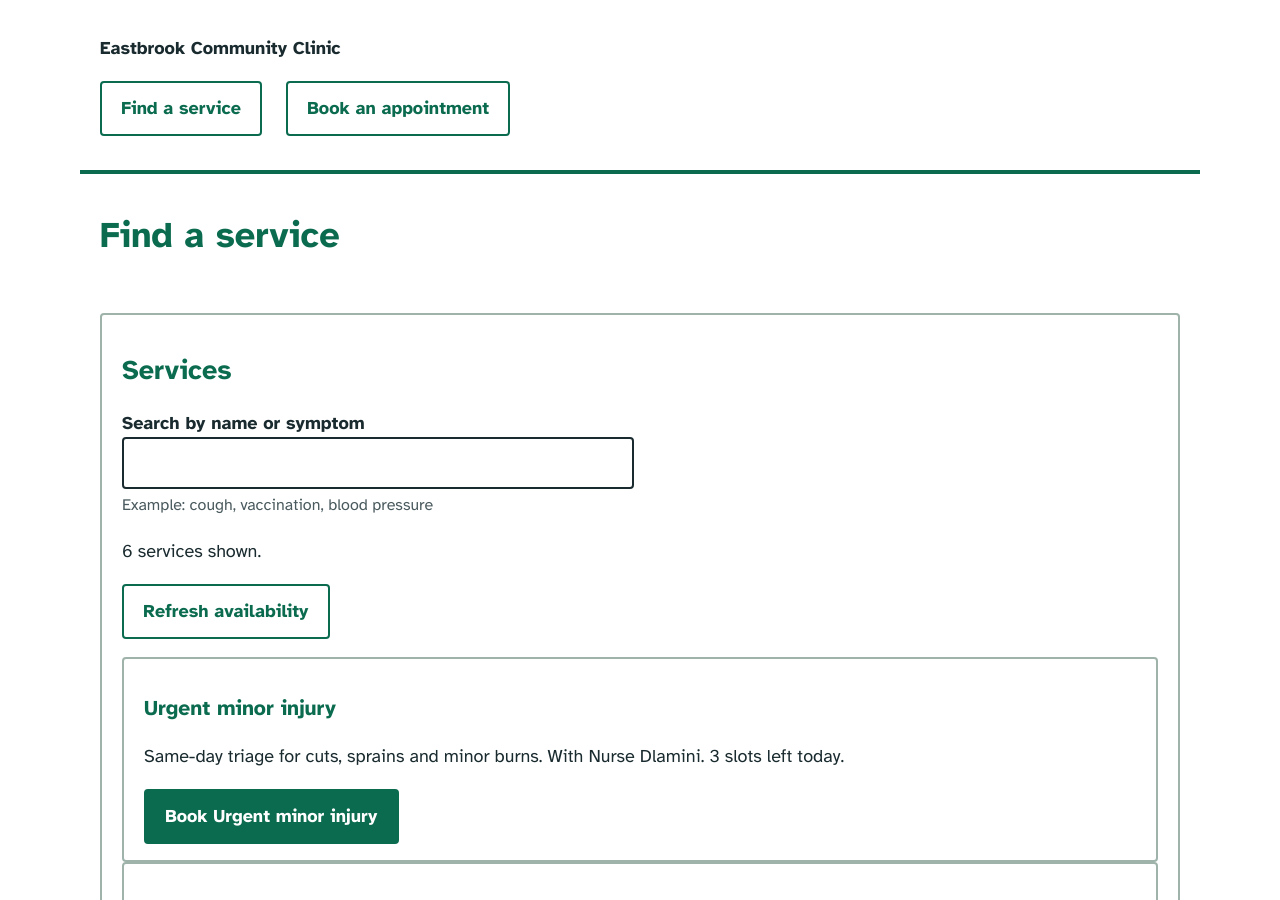
Test: directory › search narrows results and announces the count
Step 1. Type "nurse" into the search field labelled "Search by name or symptom" → (378, 463), box [122,437,634,489]
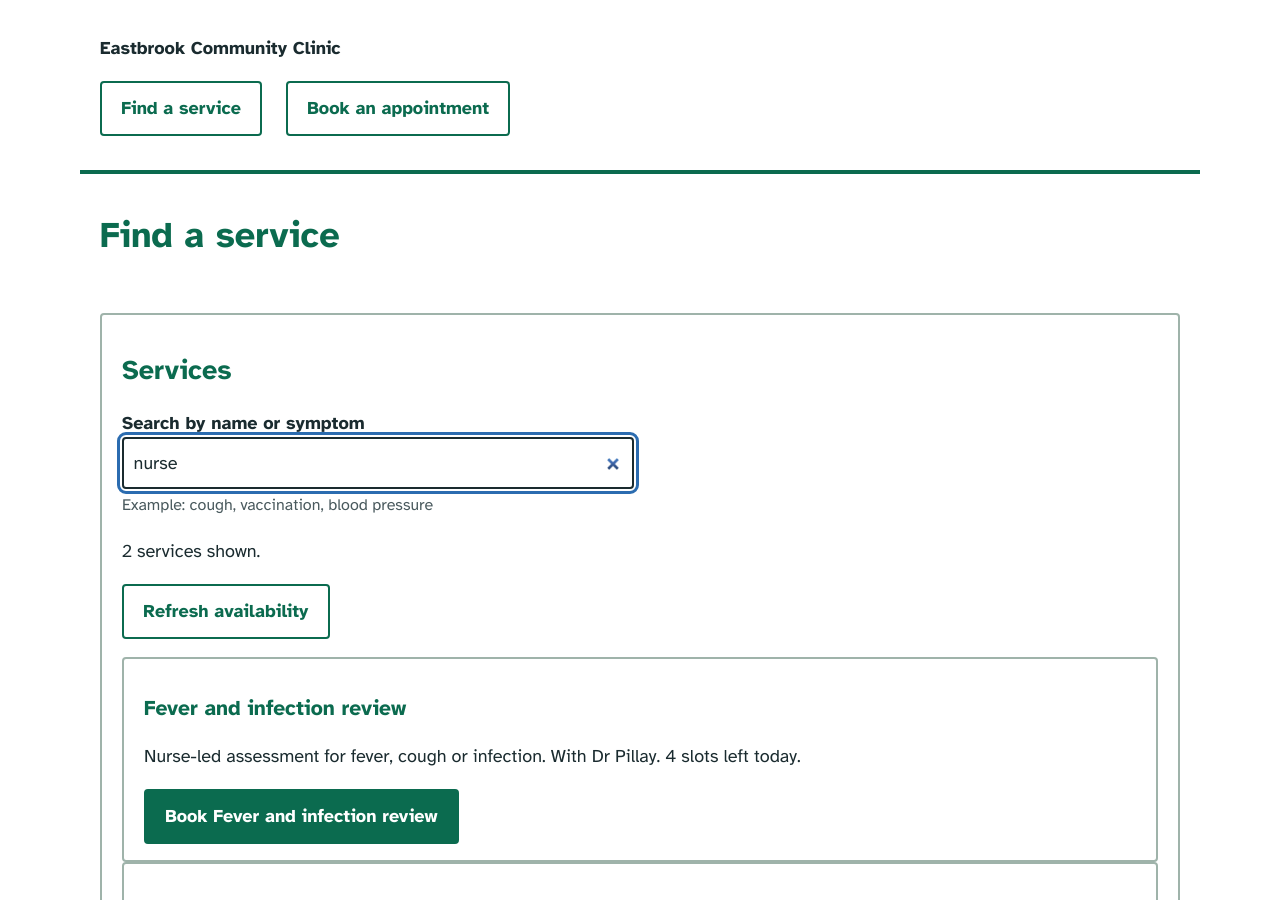
Expected: the message shows "2 services shown", [122,540,260,562]
